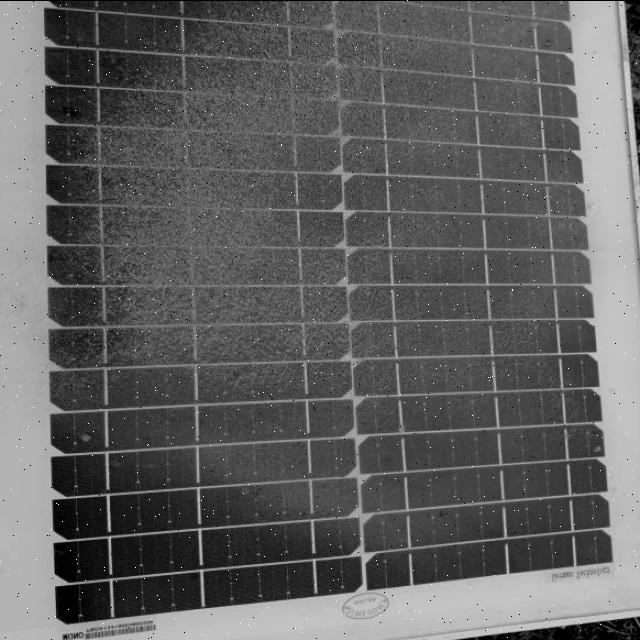Surface Contaminant: (18, 0, 593, 494)
